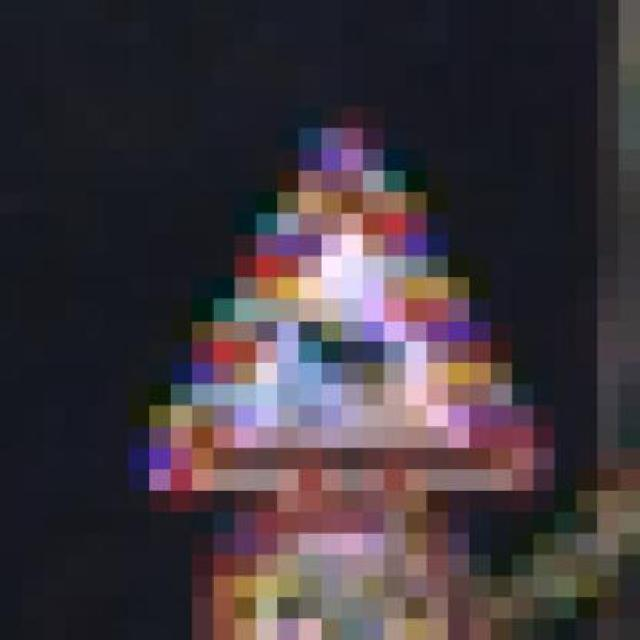Slippery Road Ahead: (86, 128, 576, 512)
